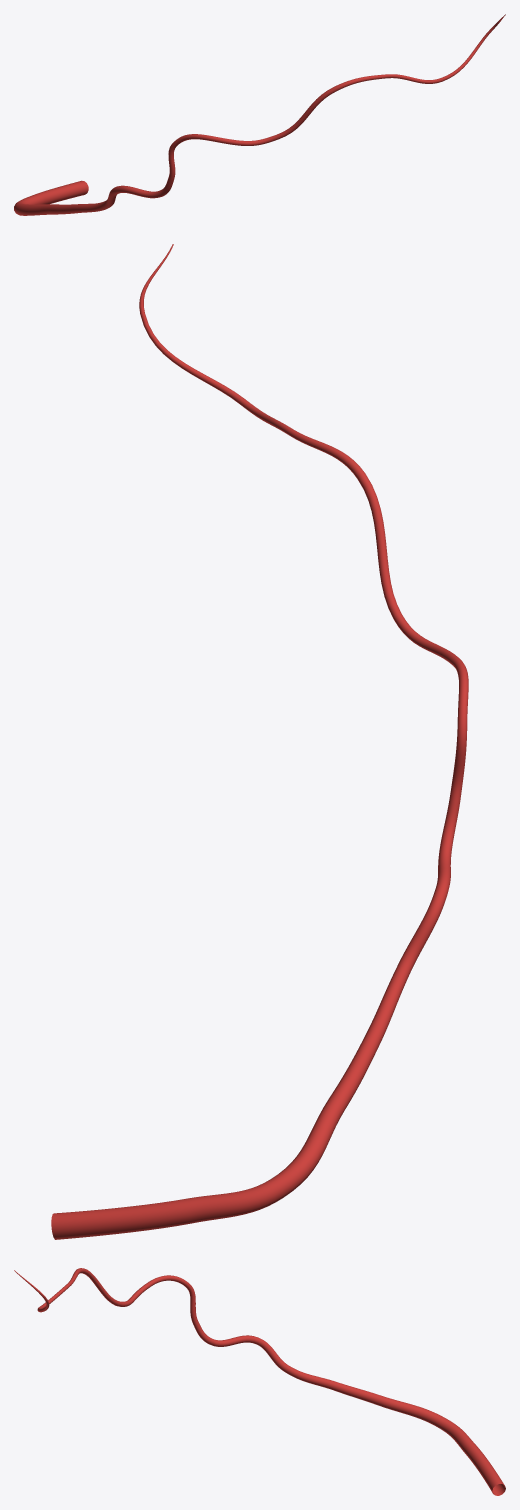
3 views of the same model, one above another, from view 1: azimuth 30°, elevation 25°; view 2: azimuth 150°, elevation 25°; view 3: azimuth 270°, elevation 25° (orthographic). The views are drawn at different scales.
Visible parts, largest first — view 1: 右侧中央沟动脉; view 2: 右侧中央沟动脉; view 3: 右侧中央沟动脉.
Part boxes in pixels (box(x1,y1,x2,y2)): 右侧中央沟动脉: box(14, 14, 505, 215); 右侧中央沟动脉: box(51, 244, 468, 1239); 右侧中央沟动脉: box(14, 1268, 505, 1495).
Bounding box in the file's own units: 0.0733 × 0.0771 × 0.1096.
